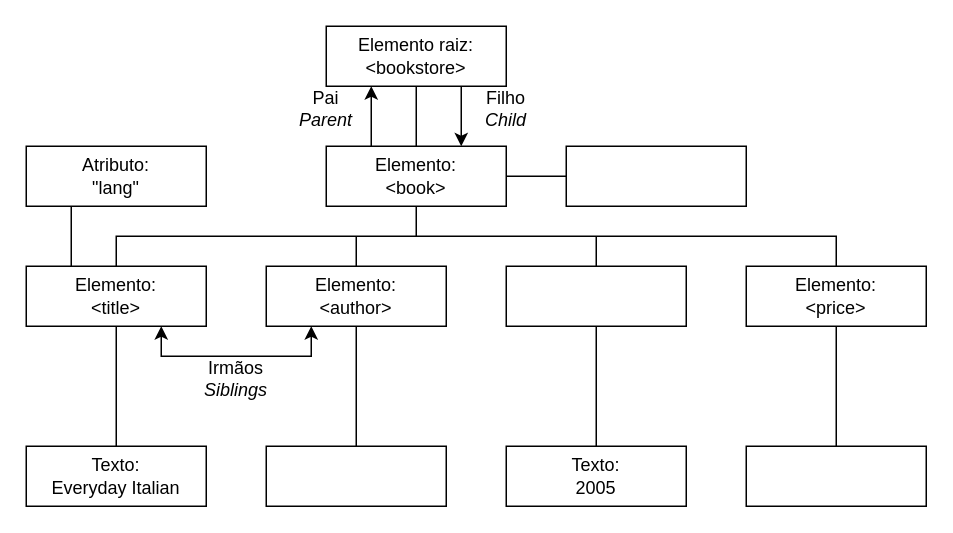
The diagram is 953 pixels wide and 533 high, and some of its shapes have lost their labels. The box of each missing label's shape, as (x1, y1, x2, y2) in pixels:
Atributo: "category": (565, 145, 746, 206)
Elemento: <year>: (505, 265, 686, 326)
Texto: 30.00: (745, 445, 926, 506)
Texto: Giada De Laurentiis: (265, 445, 446, 506)
